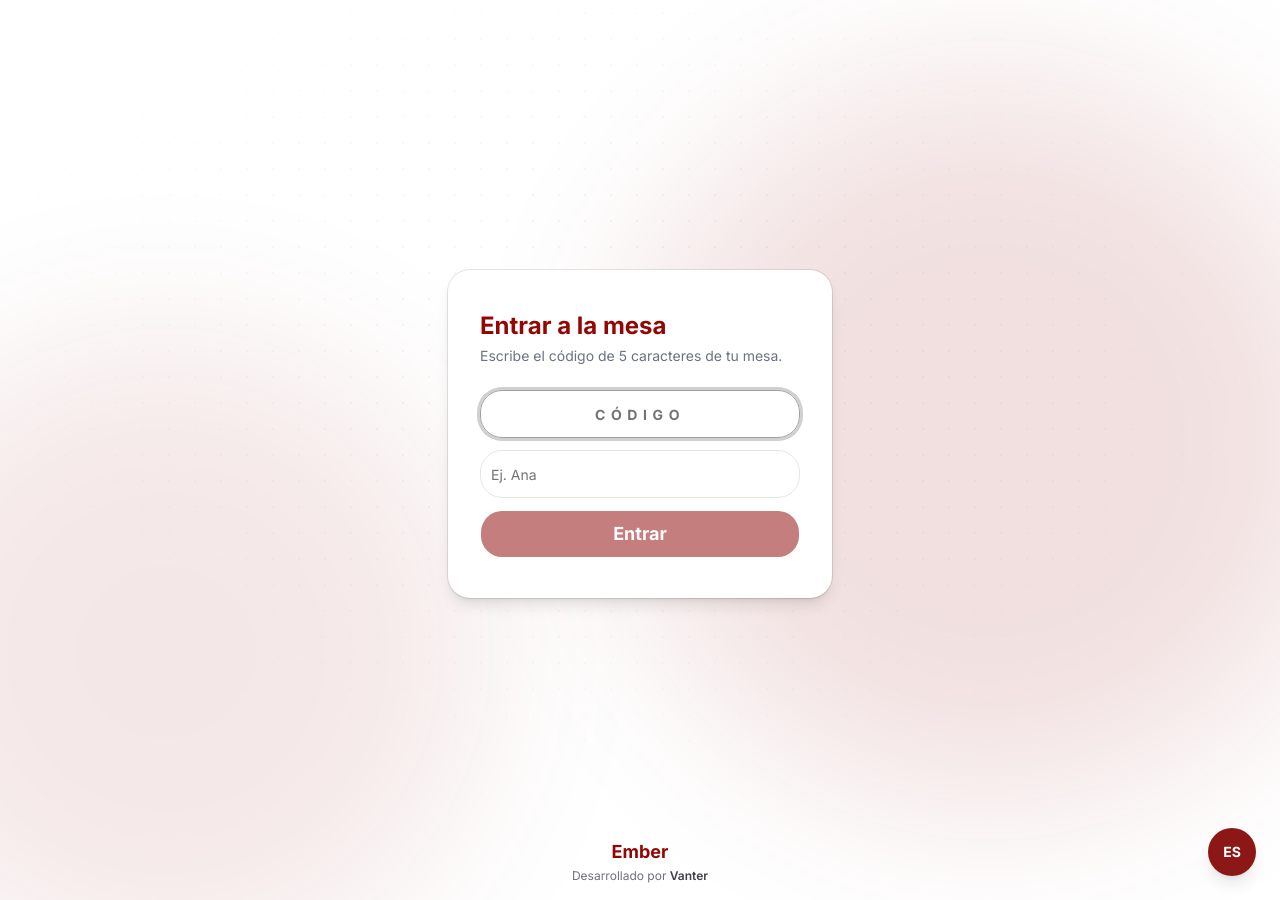
Test: JoinByCode (/join) › submit is disabled until the code is 5 characters
Expected: the button "Entrar" is disabled, [480,510,800,558]
Type "ab12" into the field with placeholder "Código" at (640, 414), box [480,390,800,438]
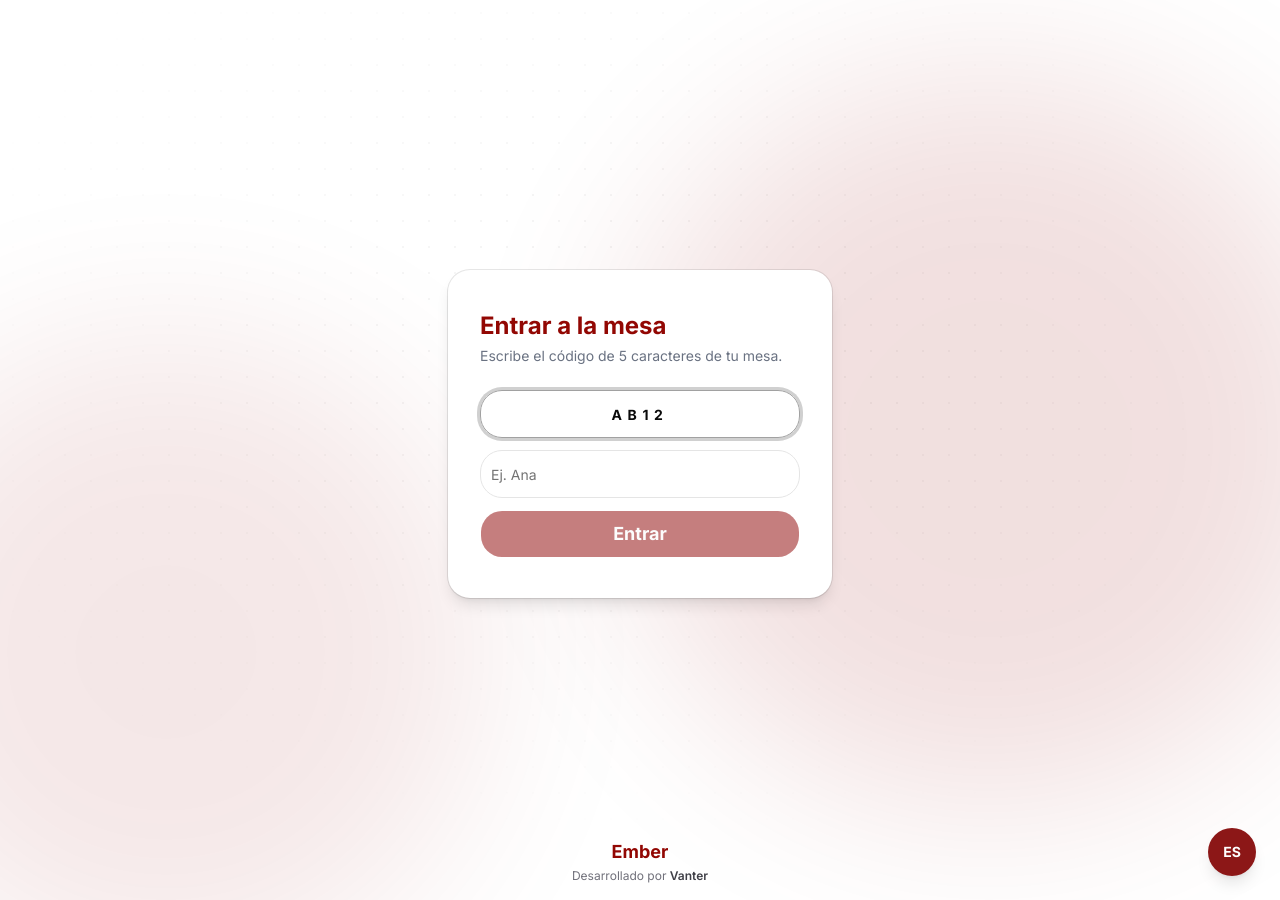
Expected: the button "Entrar" is disabled, [480,510,800,558]
Type "c" into the field with placeholder "Código" at (640, 414), box [480,390,800,438]
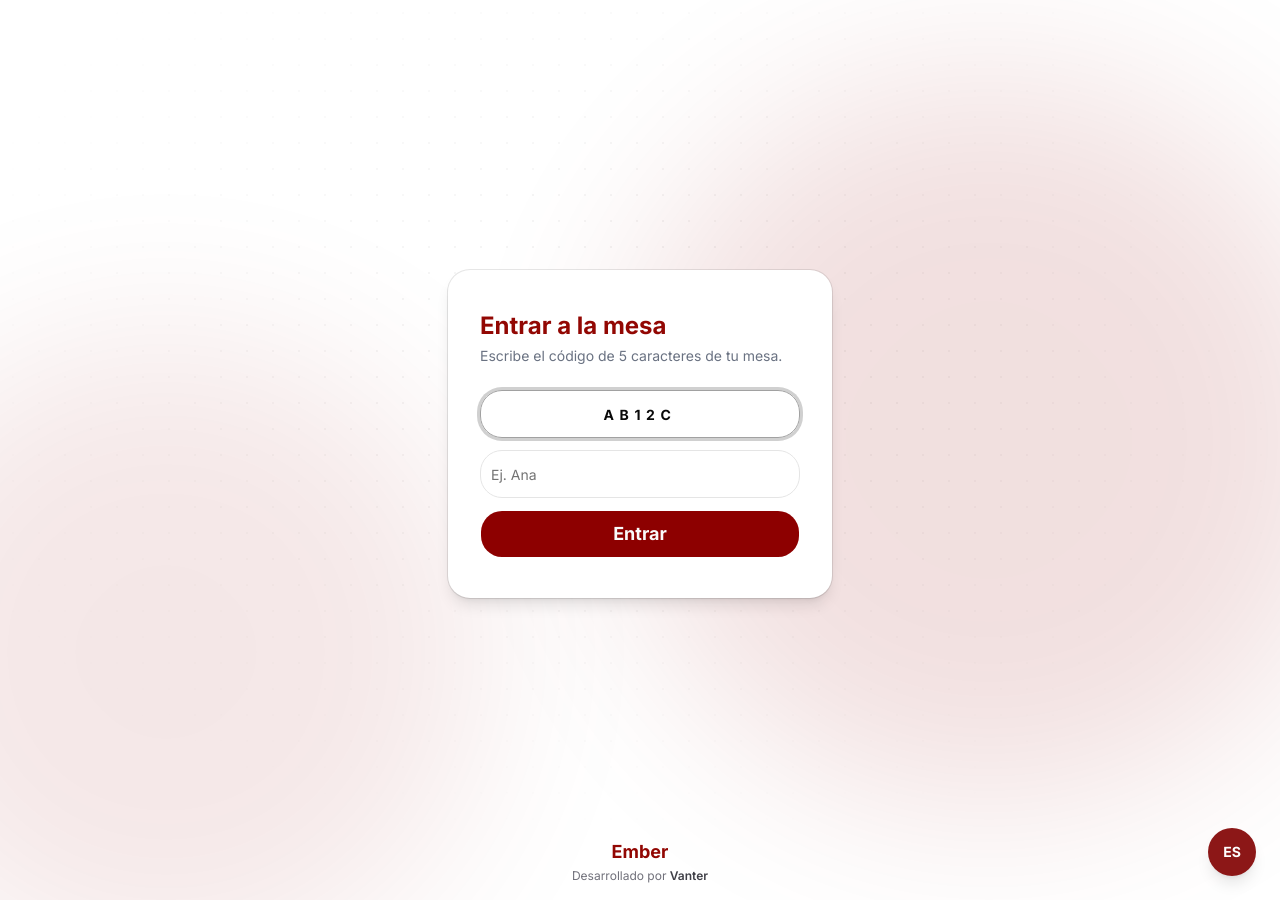
Now the button "Entrar" is enabled, box [480,510,800,558]
